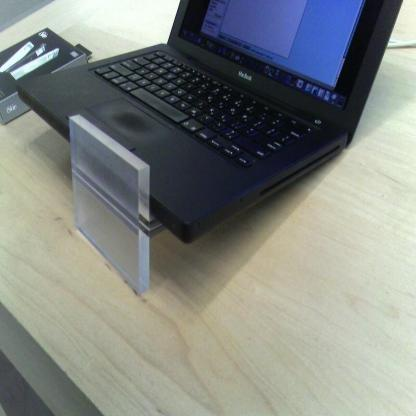board: (16, 0, 404, 244)
